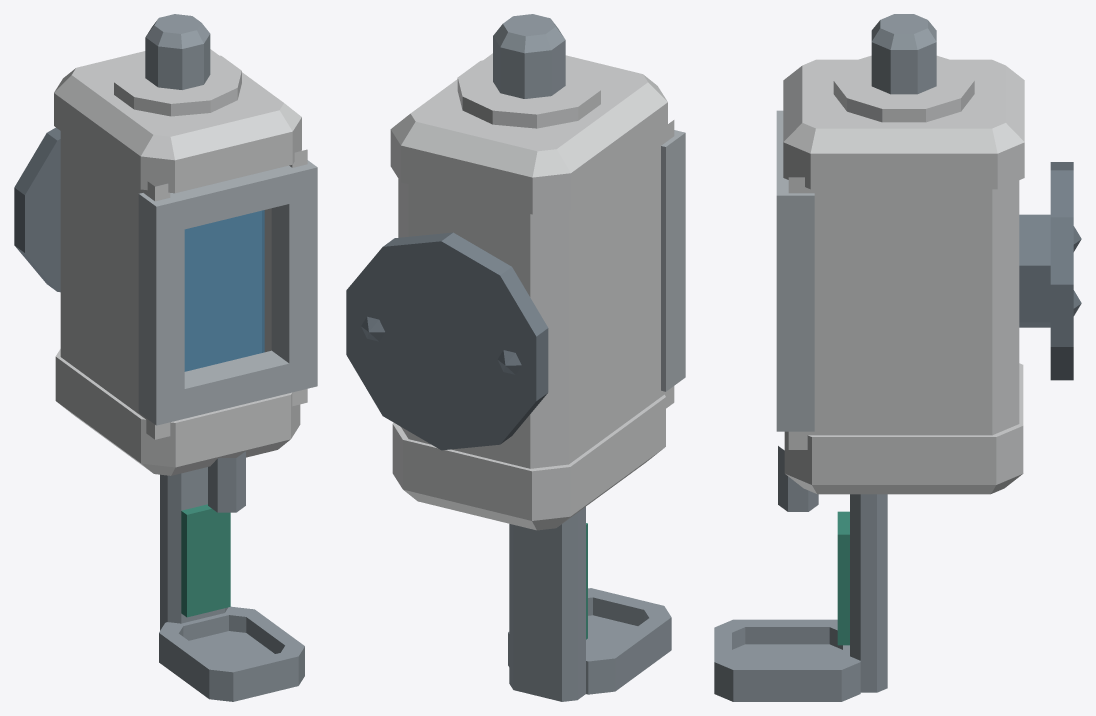
The model's file is hand-sanitiser-dispenser-a48460.glb.
The picture shows the model from 3 angles, left to right: view 1: azimuth 30°, elevation 25°; view 2: azimuth 150°, elevation 25°; view 3: azimuth 270°, elevation 25°; orthographic projection. The views are drawn at different scales.
Parts seen in each view (by area): view 1: case, cradle, lever, bottle; view 2: case, lever, cradle; view 3: case, lever, cradle.
Part boxes in pixels (x1=…): case: x1=14, y1=14, x2=307, y2=512; cradle: x1=138, y1=160, x2=317, y2=425; lever: x1=159, y1=467, x2=304, y2=701; bottle: x1=184, y1=210, x2=264, y2=371; case: x1=346, y1=14, x2=674, y2=530; lever: x1=508, y1=507, x2=671, y2=701; cradle: x1=661, y1=130, x2=685, y2=391; case: x1=778, y1=14, x2=1081, y2=511; lever: x1=714, y1=494, x2=887, y2=701; cradle: x1=776, y1=110, x2=814, y2=431.
Size of the model in its own units: 0.156 by 0.531 by 0.271.
